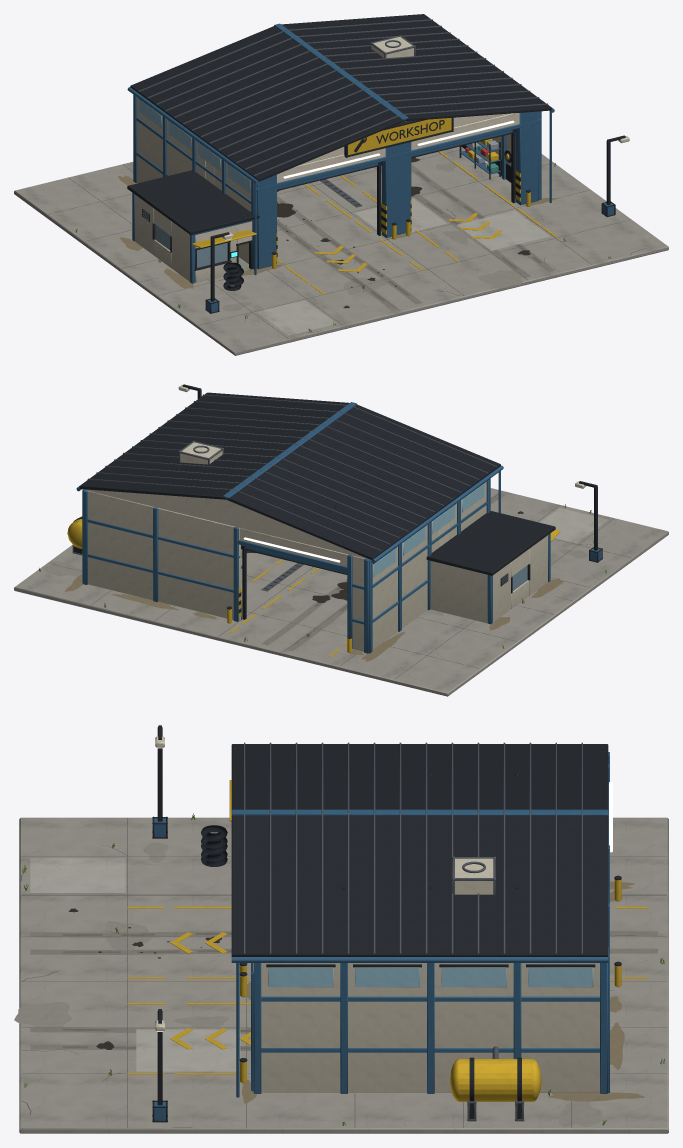
File: workshop.glb
3 views of the same model, one above another, from view 1: azimuth 30°, elevation 25°; view 2: azimuth 150°, elevation 25°; view 3: azimuth 270°, elevation 25° (orthographic). The views are drawn at different scales.
Visible parts, largest first — view 1: workshop.001; view 2: workshop.001; view 3: workshop.001.
Part boxes in pixels (x1=…): workshop.001: x1=14, y1=14, x2=668, y2=355; workshop.001: x1=14, y1=384, x2=668, y2=696; workshop.001: x1=14, y1=725, x2=668, y2=1133.
Size of what is drawn, in the model's own units: 34.55 by 9.48 by 30.25.
Materials: 55 (49 with a texture image).
